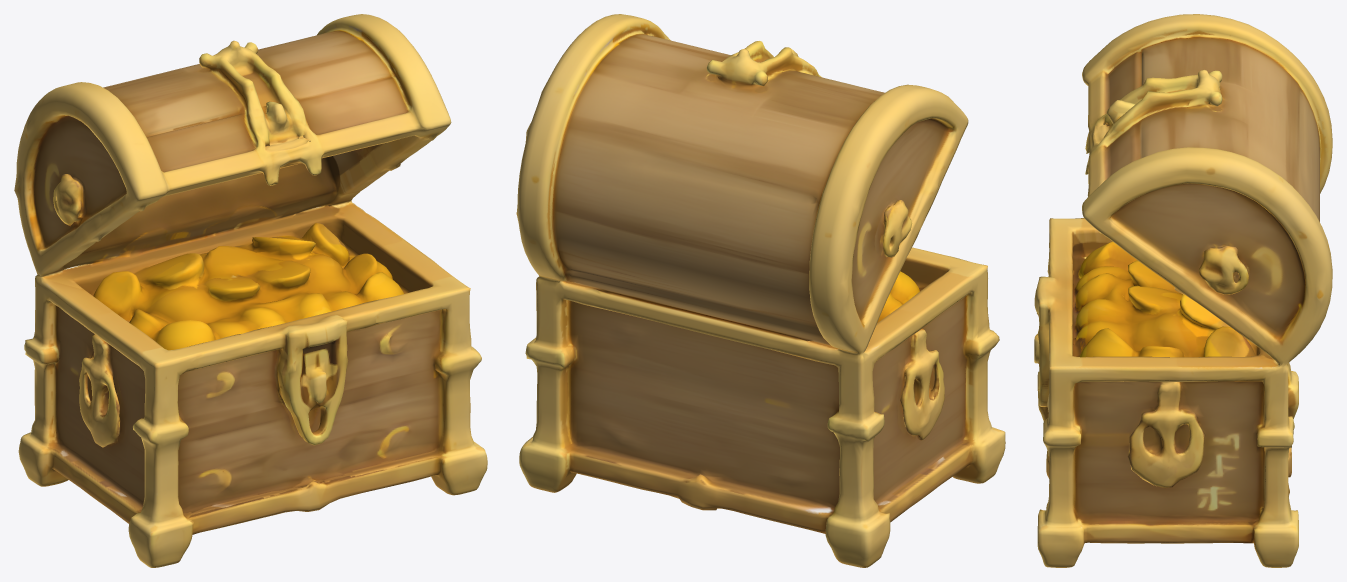
The model's file is clean-treasure.glb.
3 renders of one model, left to right at view 1: azimuth 30°, elevation 25°; view 2: azimuth 150°, elevation 25°; view 3: azimuth 270°, elevation 25°, orthographic. The views are drawn at different scales.
Visible parts, largest first — view 1: model; view 2: model; view 3: model.
Part boxes in pixels (x1=…): model: x1=14, y1=14, x2=487, y2=567; model: x1=516, y1=14, x2=1005, y2=567; model: x1=1034, y1=14, x2=1332, y2=567.
Size of the model in its own units: 1.56 by 1.9 by 1.22.
1 material, 1 textured.
